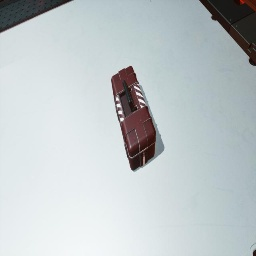FirstAidBox ,: (111, 66, 156, 171)
